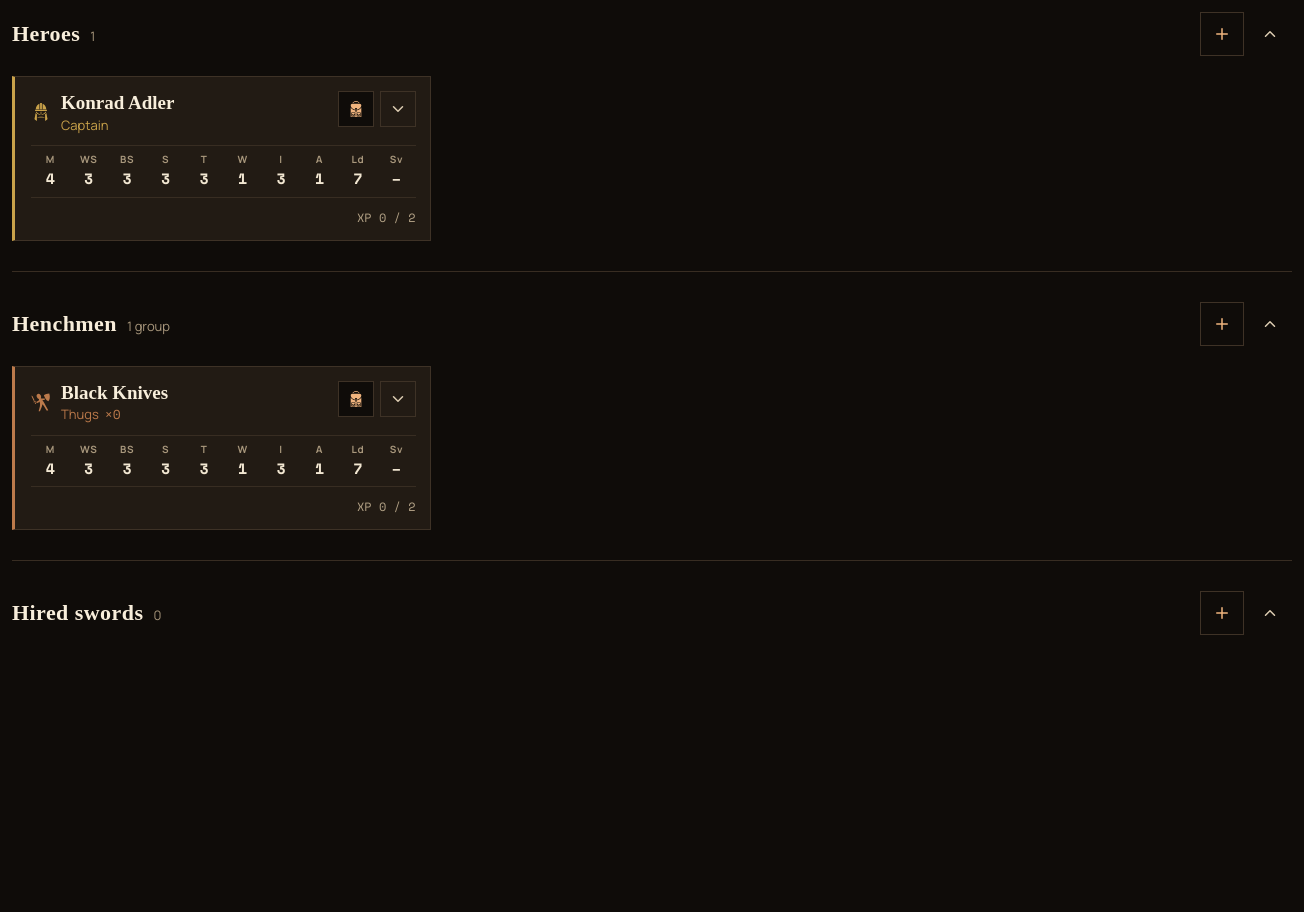
Test: The roster's sections on a phone › starts with every section open, and folds one away with its chevron
Click the button named "Heroes".
click(1270, 34)  # box [1248,12,1292,56]
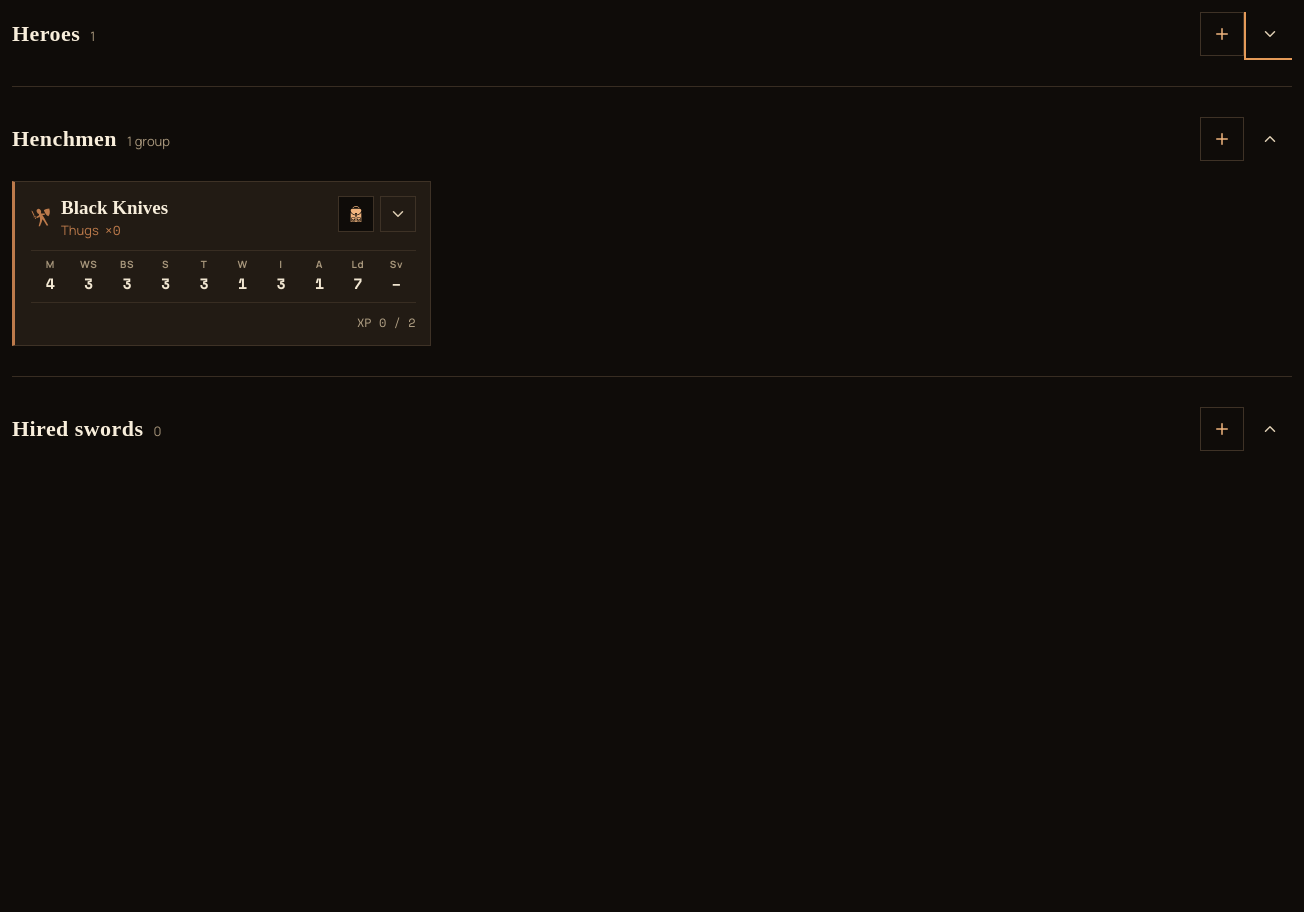
Expected: the button named "Heroes" is collapsed
Click the button named "Heroes".
click(1270, 34)  # box [1248,12,1292,56]
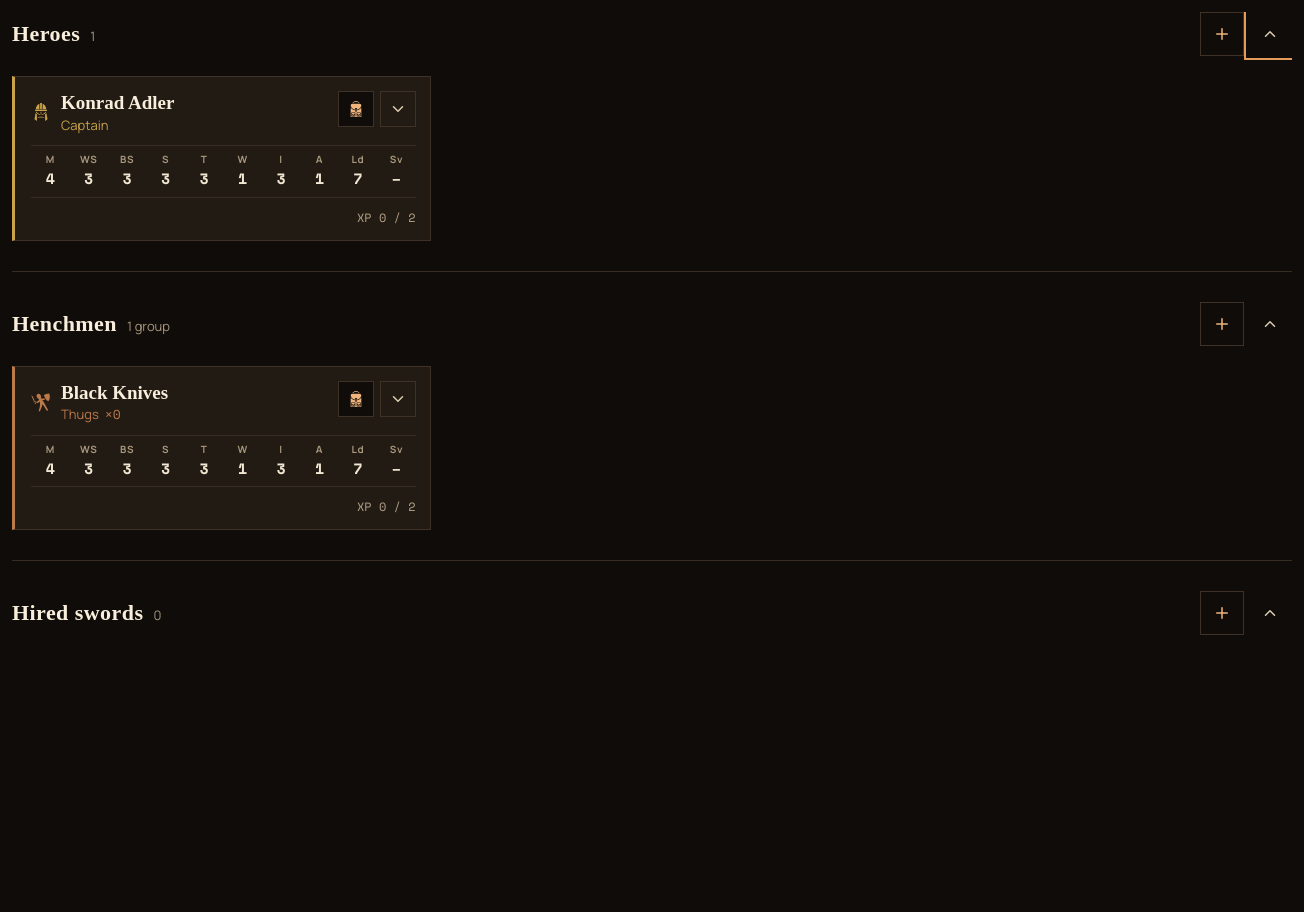
Expected: the button named "Heroes" is expanded, [1248,12,1292,56]
